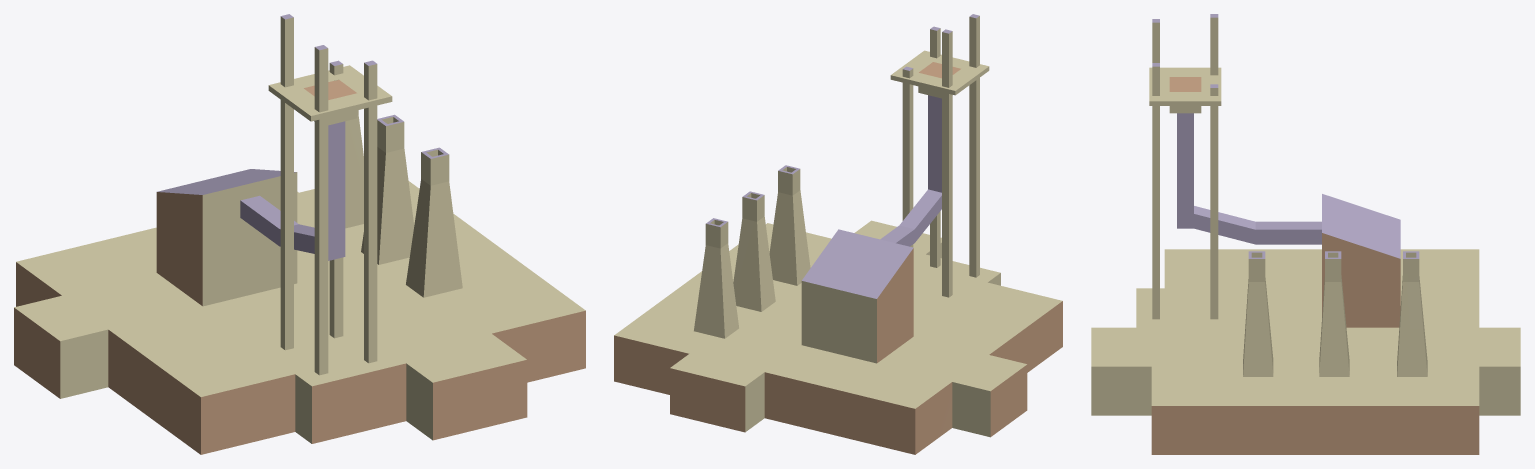
The model's file is coal_factory.glb.
The picture shows the model from 3 angles, left to right: view 1: azimuth 30°, elevation 25°; view 2: azimuth 150°, elevation 25°; view 3: azimuth 270°, elevation 25°; orthographic projection. The views are drawn at different scales.
Visible parts, largest first — view 1: Cylinder.039; view 2: Cylinder.039; view 3: Cylinder.039.
Part boxes in pixels (left/top/right/bottom): Cylinder.039: left=14, top=14, right=585, bottom=454; Cylinder.039: left=614, top=14, right=1062, bottom=454; Cylinder.039: left=1091, top=14, right=1520, bottom=454.
Size of the model in its own units: 1.82 by 1.6 by 1.88.
